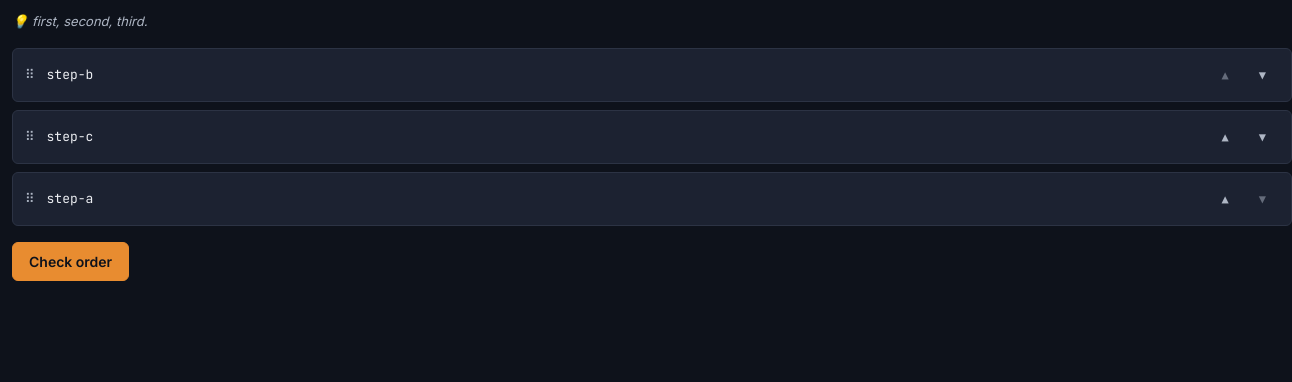
Test case: ReorderLesson › try again reshuffles and re-enables checking
The image size is (1292, 382).
Click the button "Check order".
click(71, 261)  # box [12,242,129,280]
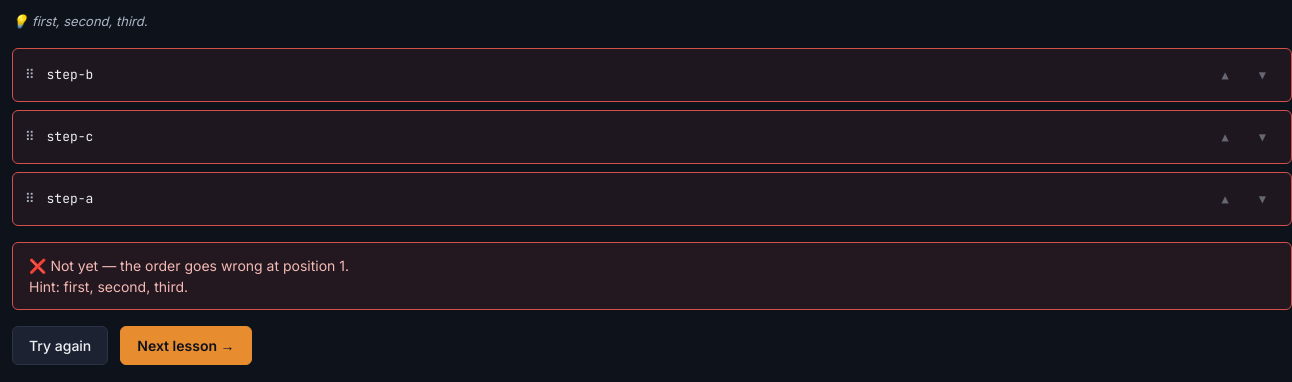
Click the button "Try again".
click(60, 345)  # box [12,326,108,364]
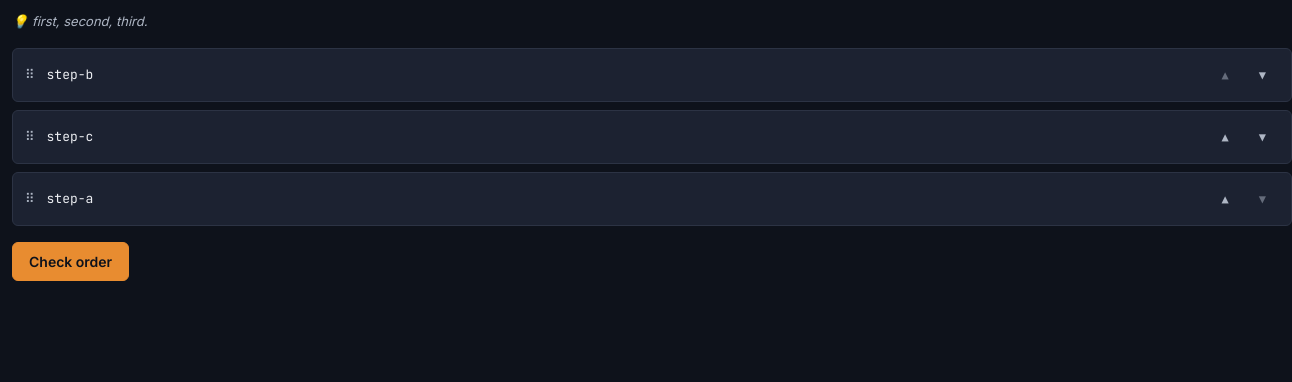
Result: the button "Check order" is shown at [12,242,129,280]
